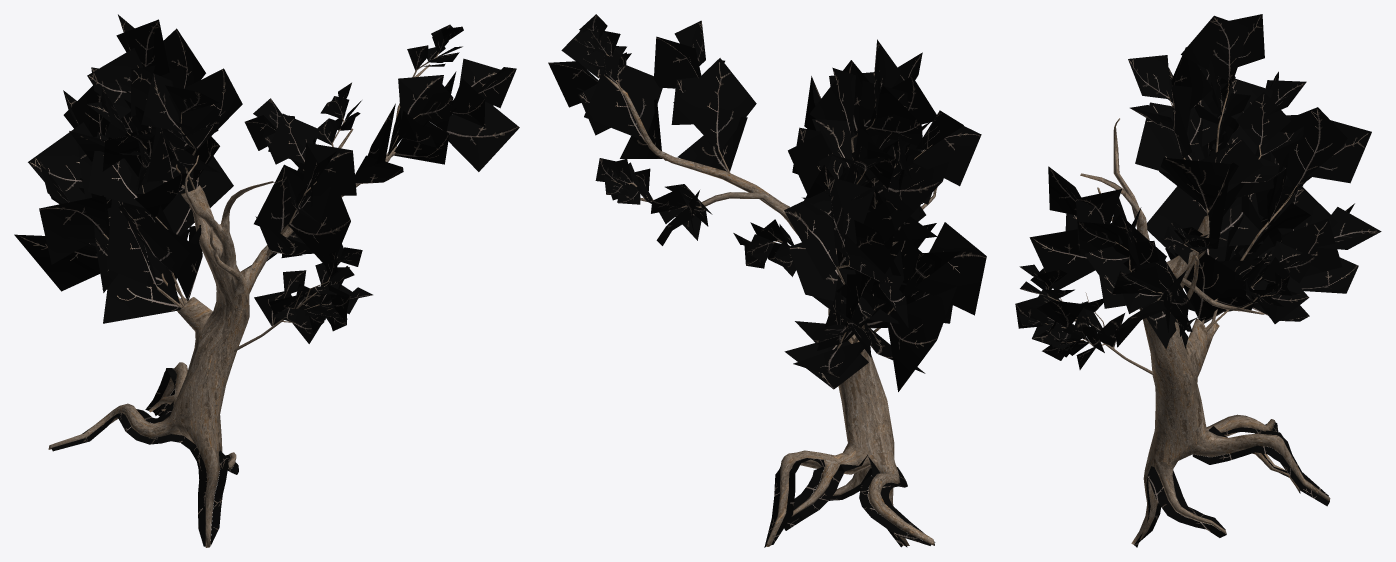
Rendered from SM_Tree_bent_06.fbx.
3 renders of one model, left to right at view 1: azimuth 30°, elevation 25°; view 2: azimuth 150°, elevation 25°; view 3: azimuth 270°, elevation 25°, orthographic. The views are drawn at different scales.
Visible parts, largest first — view 1: SM_Tree_bent_06; view 2: SM_Tree_bent_06; view 3: SM_Tree_bent_06.
Boxes of the visible parts, bbox=[...] form: SM_Tree_bent_06: bbox=[14, 14, 519, 547]; SM_Tree_bent_06: bbox=[548, 14, 986, 547]; SM_Tree_bent_06: bbox=[1015, 14, 1381, 547].
Bounding box in the file's own units: 1050 × 730 × 1154.
Materials: 2 (2 with a texture image).
